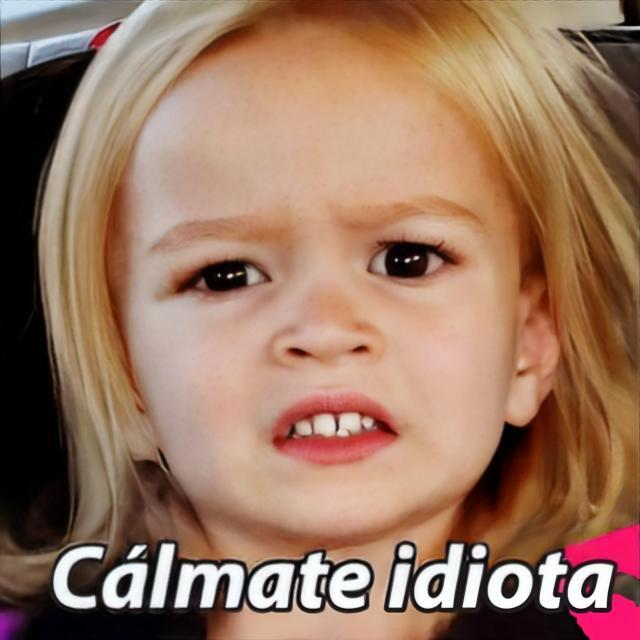disgust: (121, 19, 518, 542)
